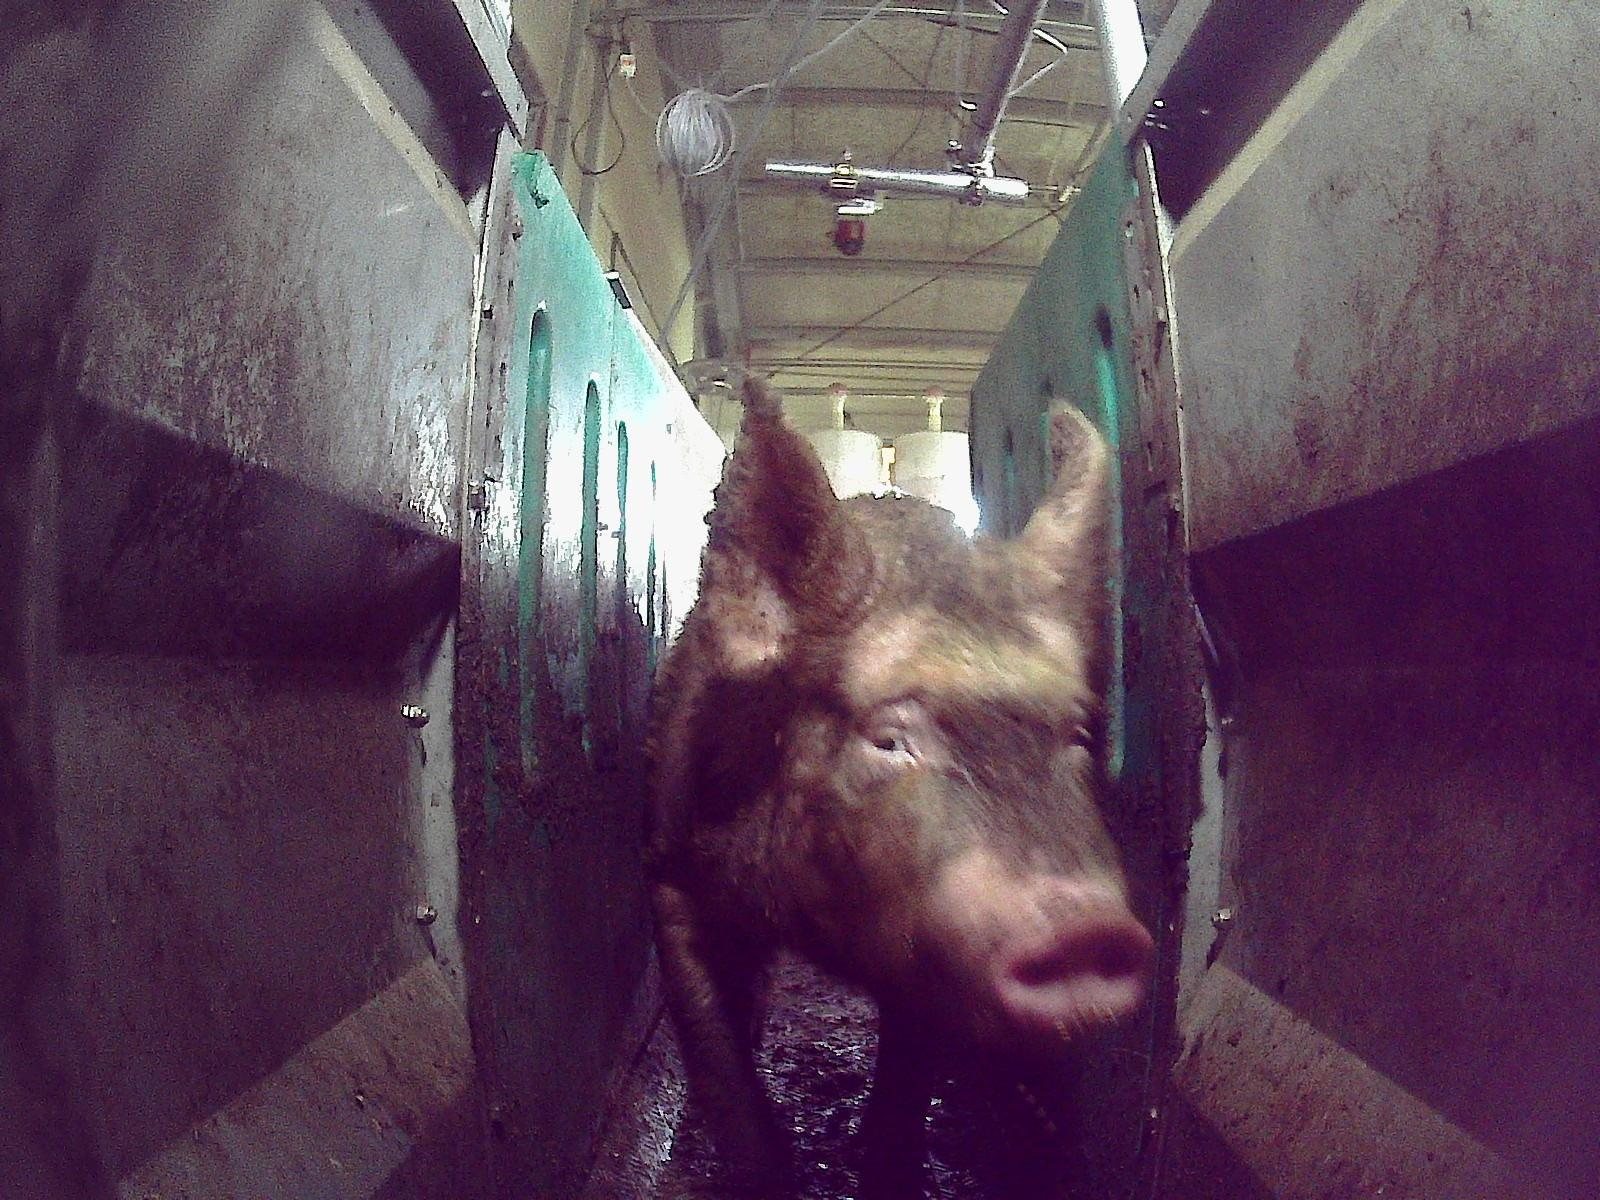Face: (771, 549, 1154, 1051)
